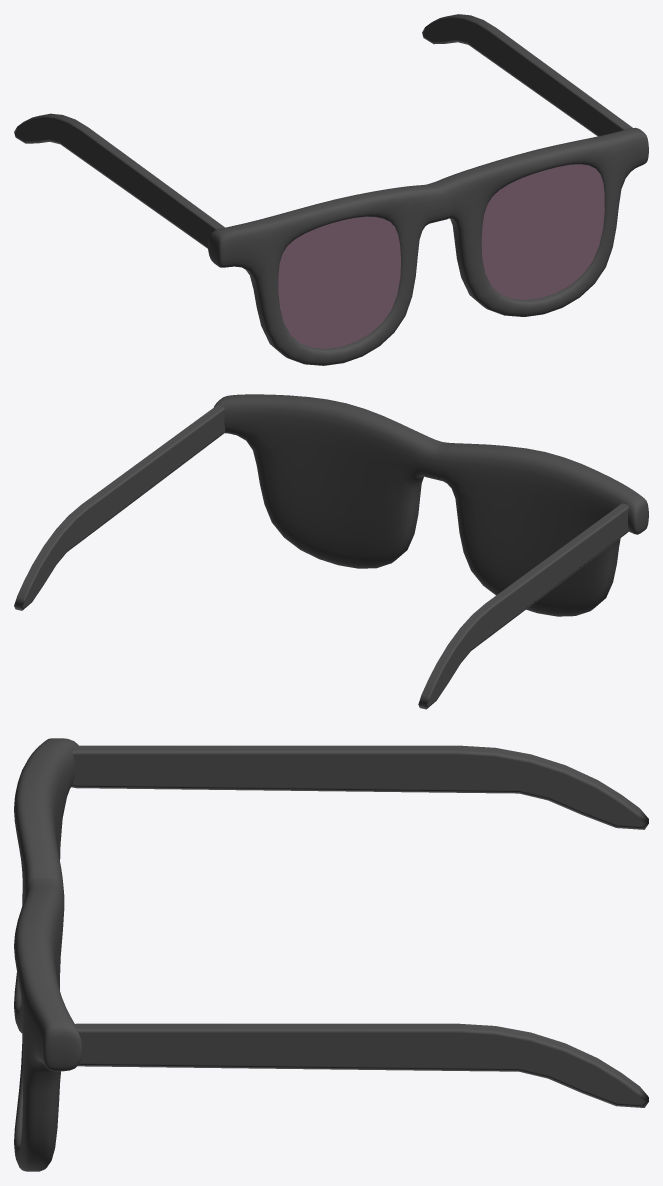
File: glassesModel.glb
3 renders of one model, top to bottom at view 1: azimuth 30°, elevation 25°; view 2: azimuth 150°, elevation 25°; view 3: azimuth 270°, elevation 25°, orthographic. The views are drawn at different scales.
Visible parts, largest first — view 1: body, glasses, leg_r, leg_l; view 2: body, leg_l, leg_r; view 3: leg_r, leg_l, body.
Boxes of the visible parts, <box> form: body: <box>208,127,648,365</box>; glasses: <box>278,164,604,348</box>; leg_r: <box>14,113,224,248</box>; leg_l: <box>422,14,632,136</box>; body: <box>214,394,648,616</box>; leg_l: <box>14,405,225,610</box>; leg_r: <box>418,503,628,709</box>; leg_r: <box>71,745,648,829</box>; leg_l: <box>74,1023,648,1107</box>; body: <box>14,738,82,1171</box>.
Bounding box in the file's own units: 2.73 × 0.9714 × 2.5.
